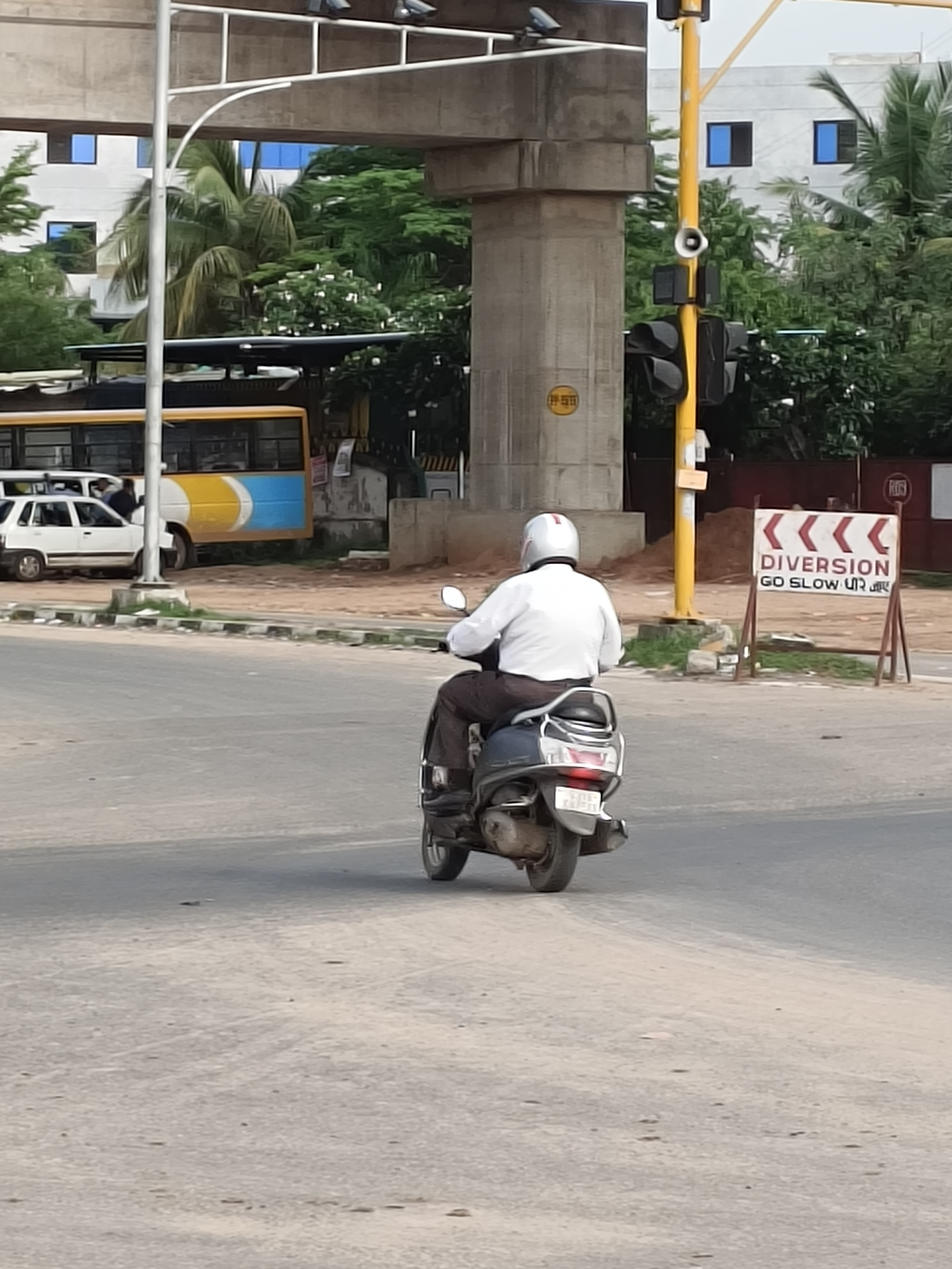BikeWithRider: (401, 502, 642, 899)
Helmet: (509, 503, 591, 579)
